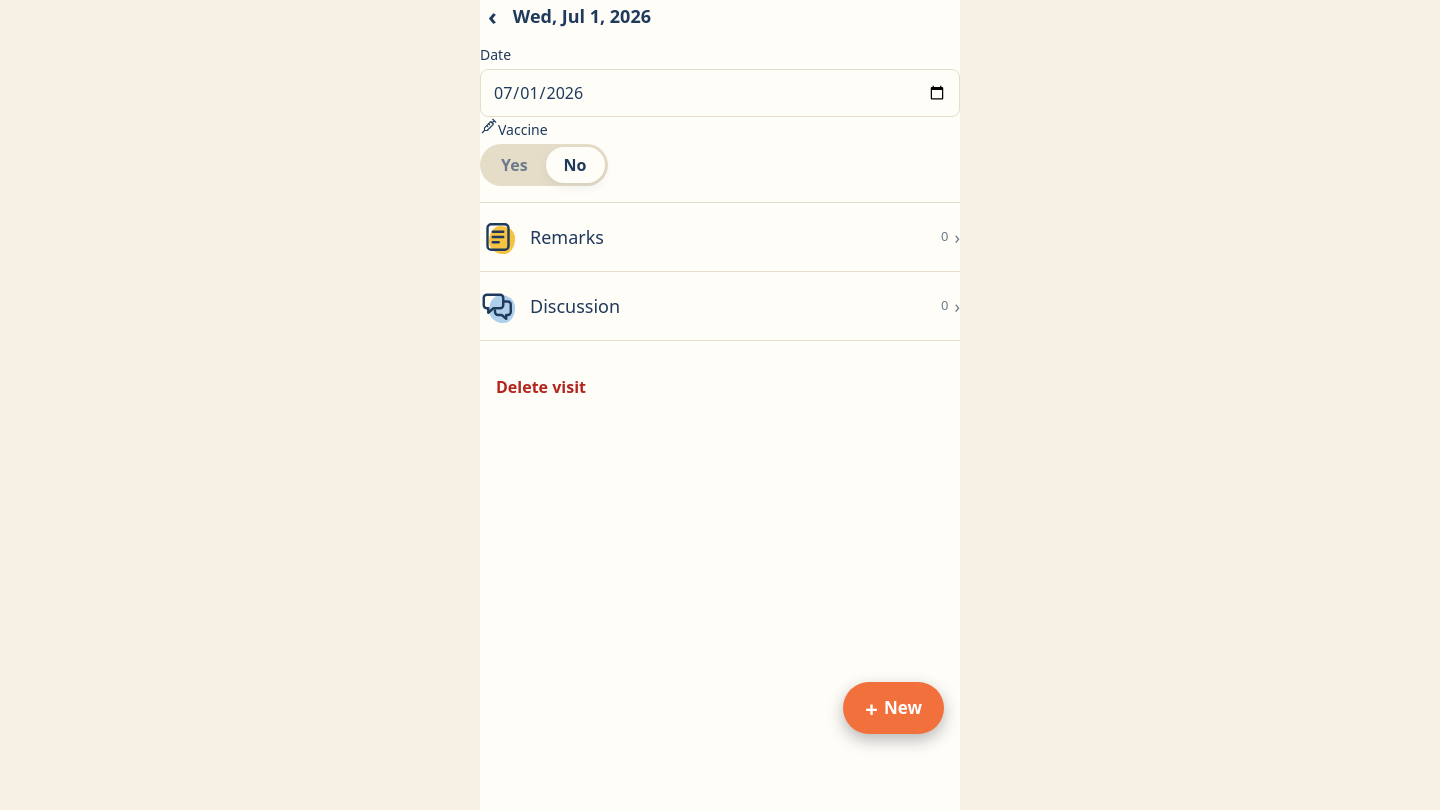
Scenario: Pediatrician screens › closes the new visit popup when created from another visit
Click the button with aria-label "New Visit": (894, 708) 843,682 -> 944,734
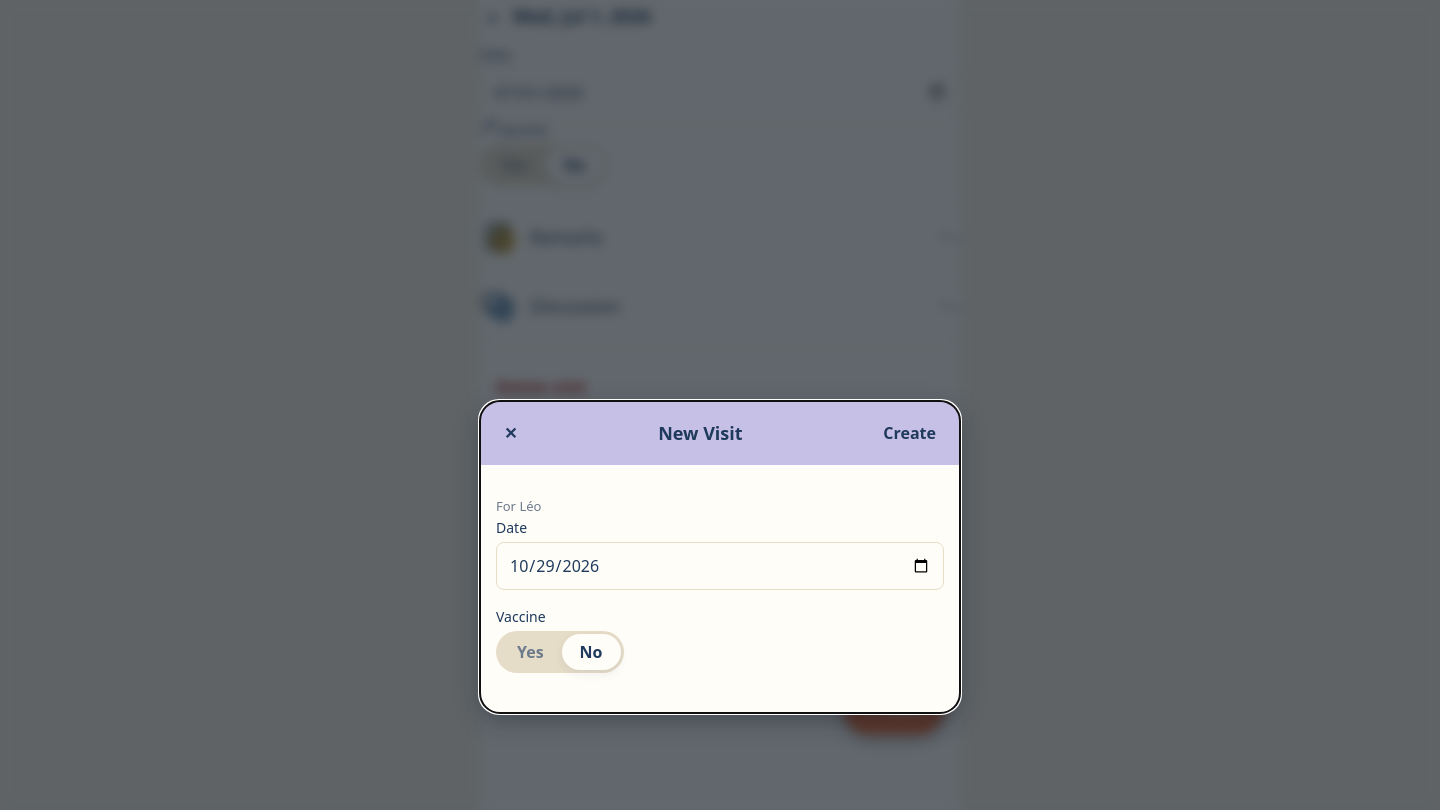
Click the button "Create": (910, 433) 875,417 -> 944,449
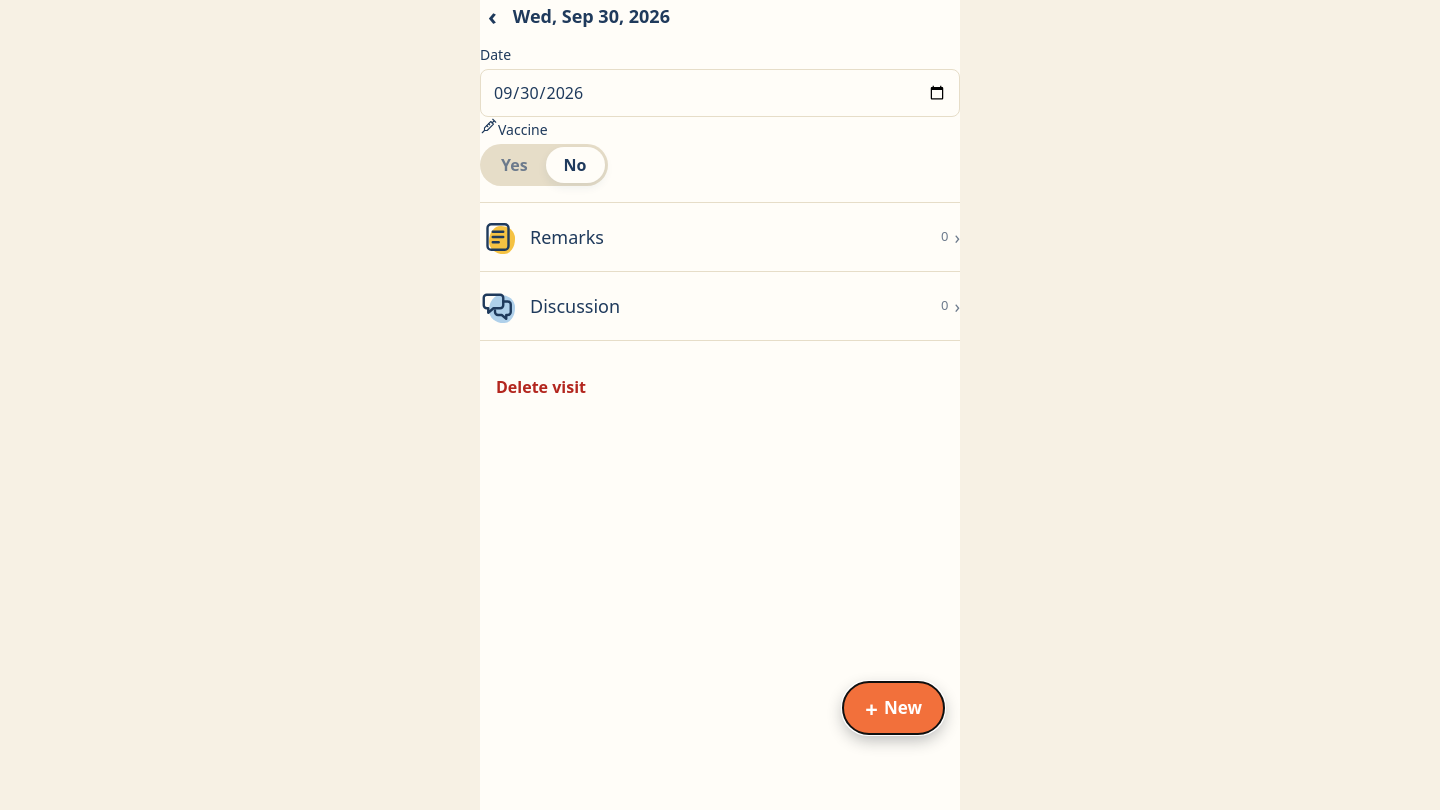
Now the heading "Wed, Sep 30, 2026" is shown, box 513,4 -> 670,28
Now the heading "New Visit" is gone
